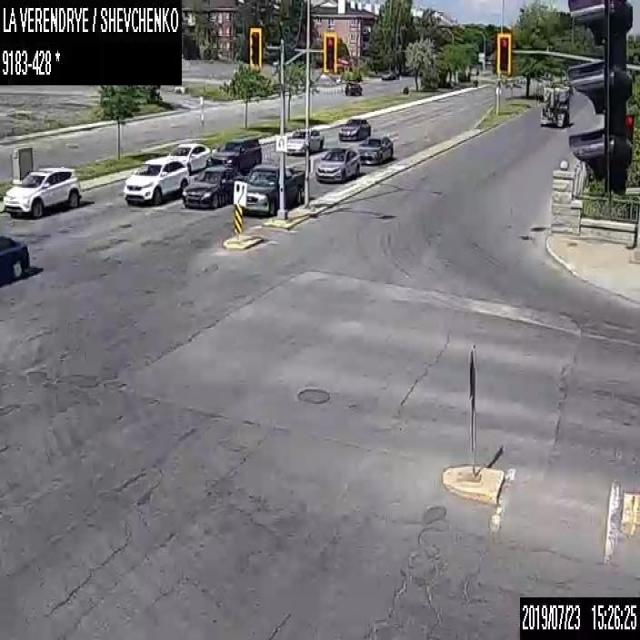vehicle: (3, 161, 80, 219), (242, 161, 304, 214), (123, 156, 188, 204), (181, 164, 245, 208), (211, 135, 261, 174), (315, 146, 360, 182), (0, 232, 29, 285), (539, 82, 570, 125), (167, 142, 210, 171), (286, 124, 324, 155), (358, 134, 393, 165), (338, 115, 370, 140), (344, 80, 364, 96), (381, 68, 400, 81)
